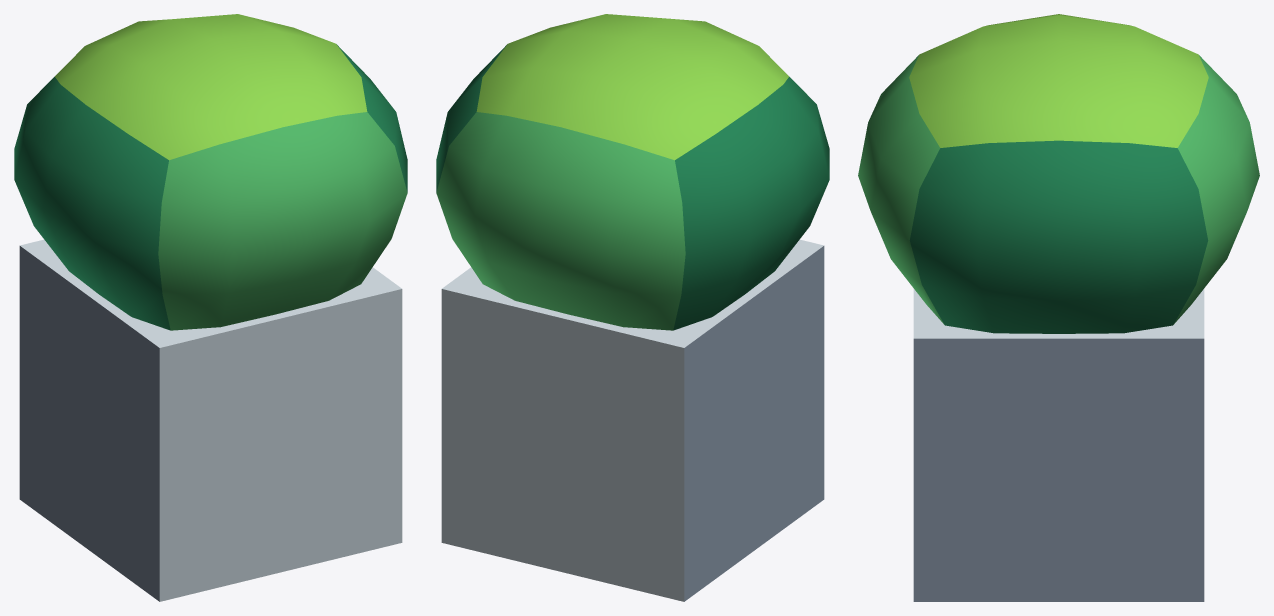
The model's file is hedge.fbx.
The picture shows the model from 3 angles, left to right: view 1: azimuth 30°, elevation 25°; view 2: azimuth 150°, elevation 25°; view 3: azimuth 270°, elevation 25°; orthographic projection. The views are drawn at different scales.
Parts seen in each view (by area): view 1: box, reaf; view 2: box, reaf; view 3: reaf, box.
Boxes of the visible parts, x1,y1,x2,y2 form: box: (19, 239, 402, 601); reaf: (14, 14, 407, 330); box: (441, 239, 824, 601); reaf: (436, 14, 829, 330); reaf: (858, 14, 1259, 333); box: (913, 289, 1204, 601).
Size of the model in its own units: 44.07 by 60.44 by 44.07.
Materials: 1 (1 with a texture image).
